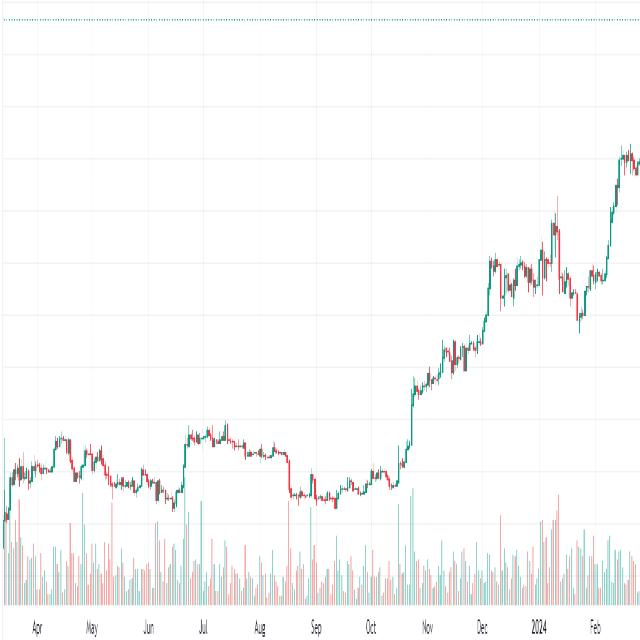rectangle: (177, 418, 293, 478)
